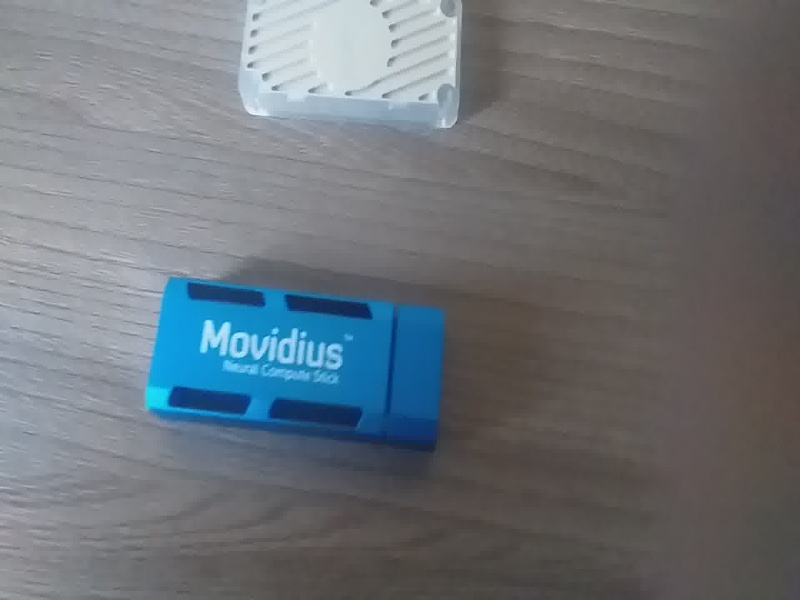coral: (228, 1, 469, 130)
movidius: (138, 270, 454, 461)
